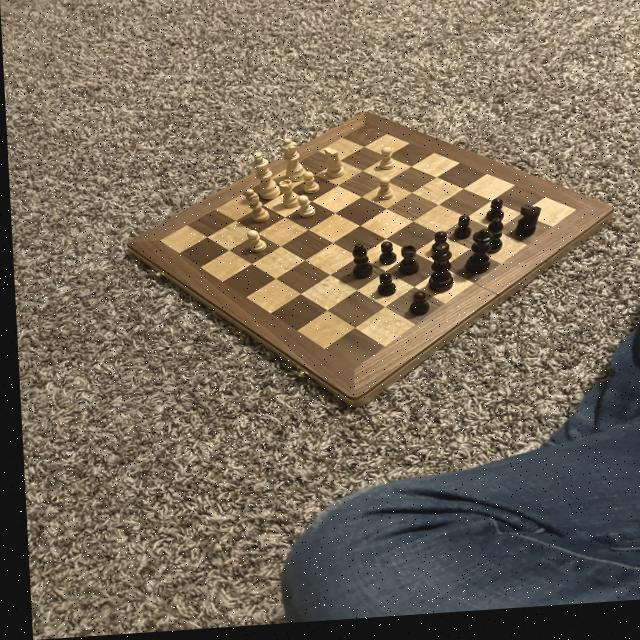bishop: (344, 245, 373, 286), (479, 223, 504, 263)
black-bishop: (422, 248, 453, 300)
black-king: (508, 208, 541, 248)
black-knight: (447, 218, 475, 247), (401, 295, 428, 323), (370, 274, 395, 304), (424, 235, 448, 262), (481, 204, 503, 232), (373, 245, 395, 271)
black-pawn: (460, 232, 494, 282)
black-queen: (393, 248, 417, 281)
black-rook: (239, 190, 272, 229)
white-bishop: (248, 153, 278, 205)
white-king: (315, 151, 344, 185)
white-knight: (371, 181, 395, 208), (240, 232, 266, 256), (293, 197, 314, 223), (375, 150, 394, 177), (299, 172, 318, 198)
white-pawn: (276, 140, 305, 188)
white-queen: (272, 180, 301, 215)
